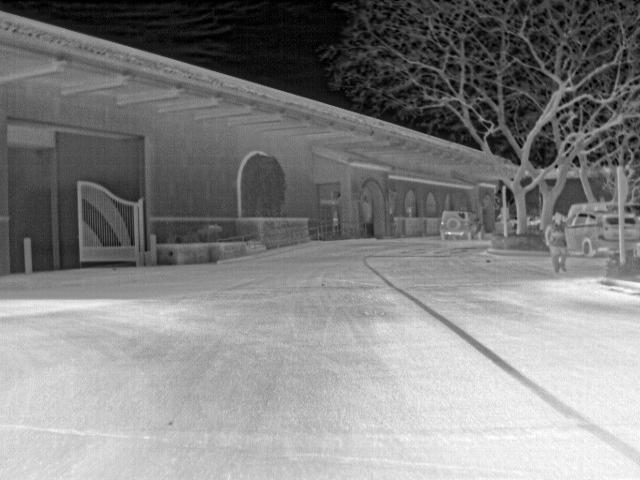car: (565, 211, 619, 258), (439, 211, 484, 242), (623, 214, 640, 254)
person: (545, 211, 570, 274)
